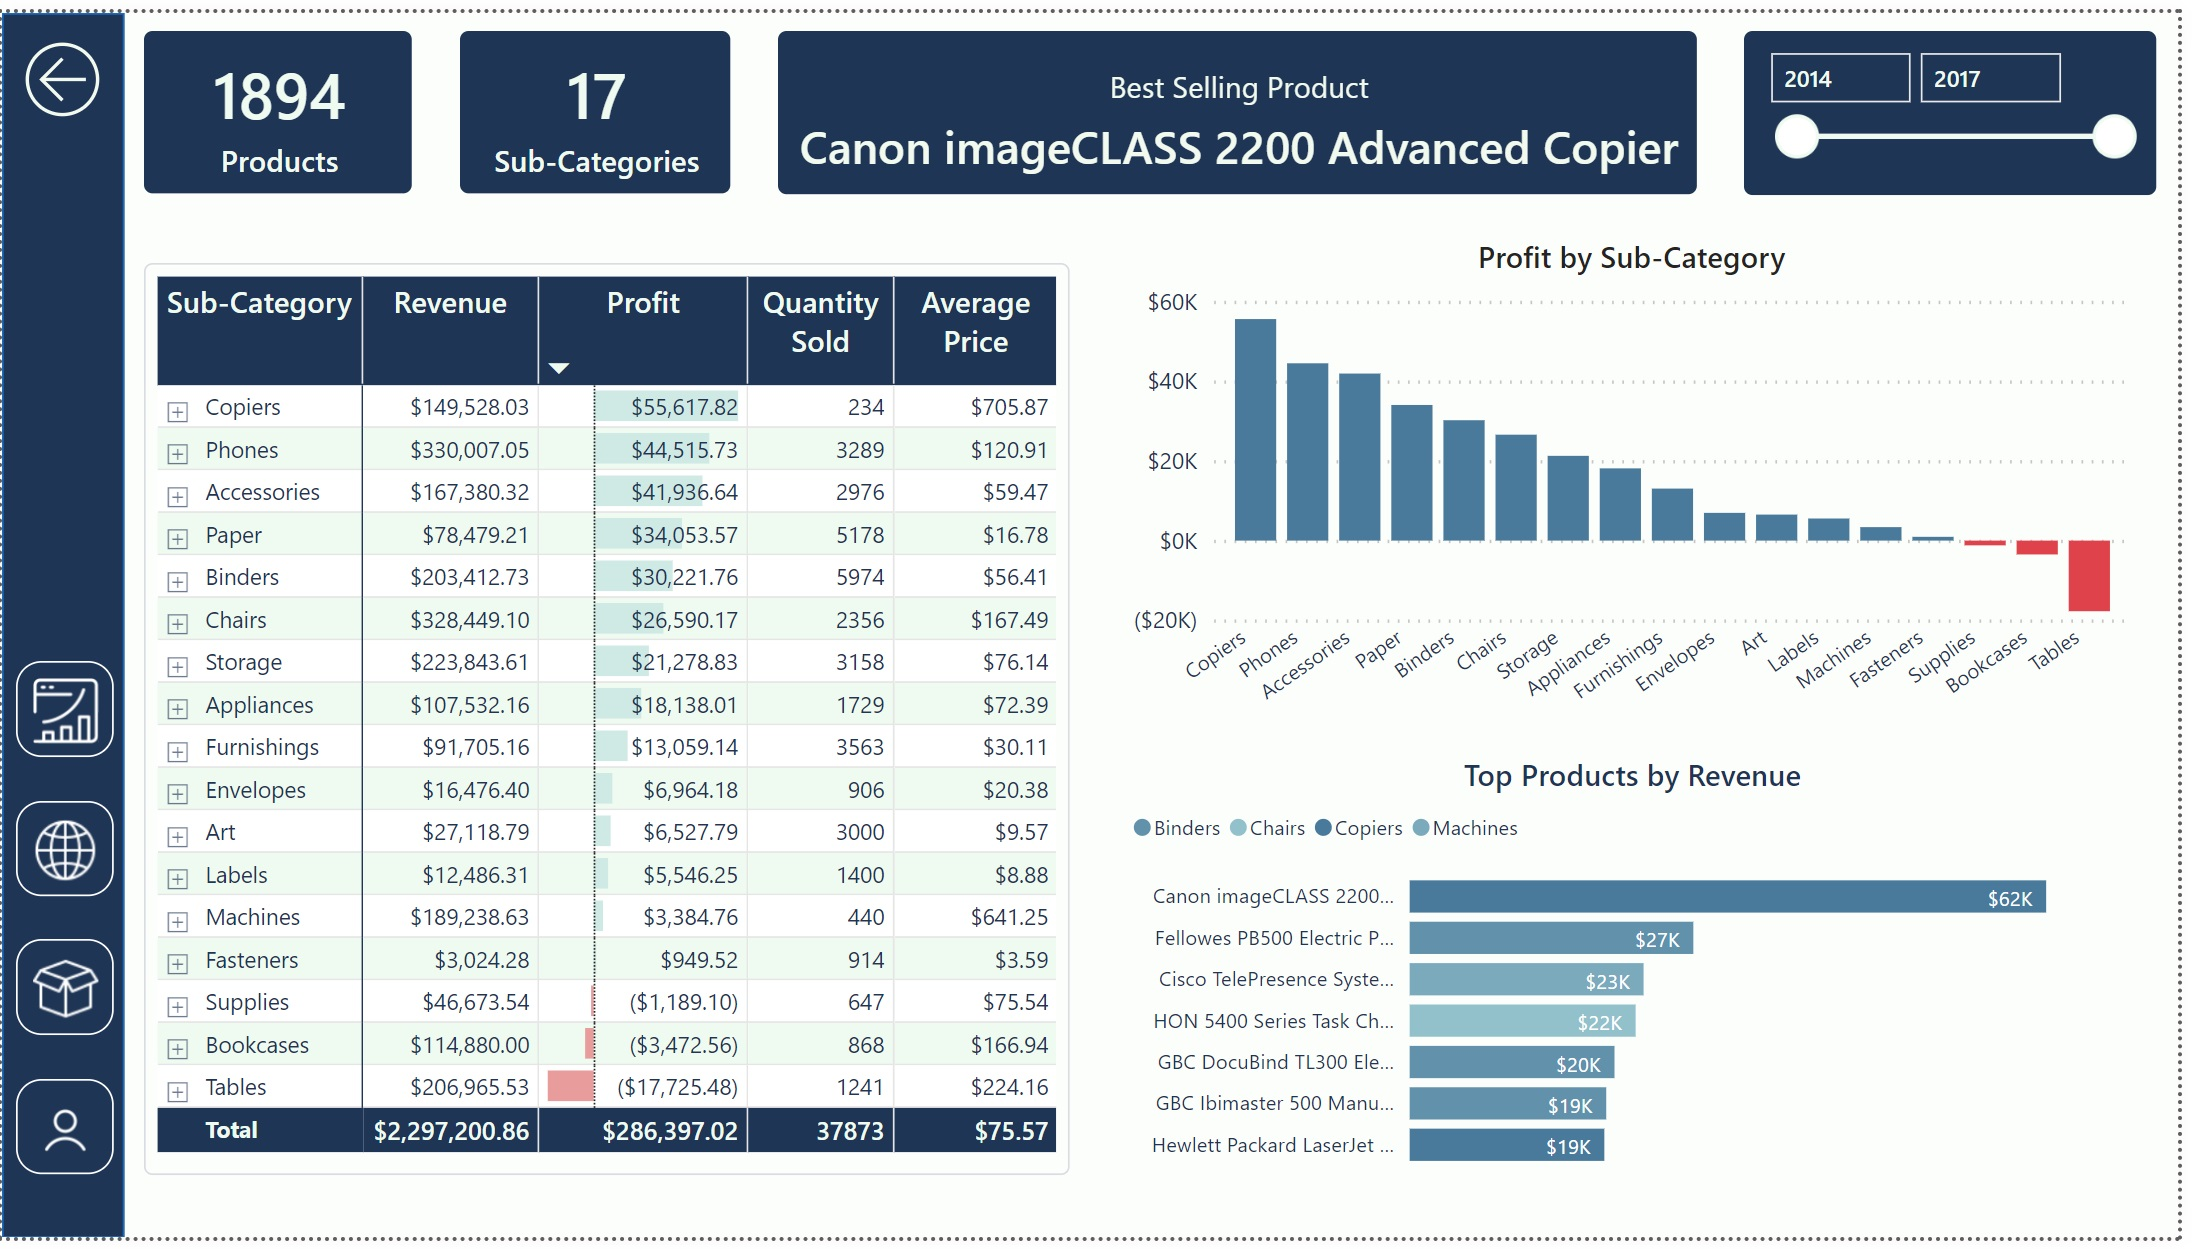

Layout of this report page (visuals, bound fields, positions):
{"tool":"powerbi","page":{"name":"Products","canvas":[1280,720],"ordinal":2},"visuals":[{"type":"card","title":"Products","fields":{"Values":["Measure Table.Products"]},"box":[83.5,10.6,157.6,95.3],"z":0},{"type":"actionButton","title":"Customers","box":[8,627.3,57.7,56],"z":0,"group":"g1"},{"type":"pivotTable","fields":{"Rows":["Products.Sub-Category","Products.Product Name"],"Values":["Measure Table.Revenue","Measure Table.Profit","Measure Table.Quantity Sold","Measure Table.Avg Price"]},"box":[83,146.6,544.3,536.4],"z":1000},{"type":"actionButton","title":"Products","box":[8,544.9,57.7,56.6],"z":1000,"group":"g1"},{"type":"columnChart","fields":{"Category":["Products.Sub-Category"],"Y":["Measure Table.Profit"]},"box":[660.5,132.1,597.3,295.3],"z":2000},{"type":"actionButton","title":"Globe","box":[8,463.2,57.7,56],"z":2000,"group":"g1"},{"type":"actionButton","title":"Dashboard","box":[8,380.8,57.7,56.6],"z":3000,"group":"g1"},{"type":"barChart","title":"Top  Products by Revenue","fields":{"Category":["Products.Product Name"],"Y":["Measure Table.Revenue"],"Series":["Products.Sub-Category"]},"box":[660.5,436.3,598.4,254.2],"z":3000},{"type":"shape","box":[0,0,72,720.3],"z":4000},{"type":"slicer","fields":{"Values":["Calendar.Year"]},"box":[1024.7,10.6,242.4,96.5],"z":5000},{"type":"card","title":"Sub-Categories","fields":{"Values":["Measure Table.Sub-Categories"]},"box":[269.2,10.6,158.8,95.3],"z":6000},{"type":"card","title":"Best Selling Product","fields":{"Values":["Min(Products.Product Name)"]},"box":[456.1,10,540.6,96.2],"z":7000},{"type":"actionButton","box":[6.8,10.2,58,56.8],"z":8000},{"type":"group","id":"g1","title":"Group 1","box":[8,380.8,57.7,302.5],"z":9000}]}

Visuals, with their boxes in screenshot pixels (x1, y1, x2, y2), scaled from the page's 1280x720 canvas onto the 2192x1249 screenshot:
"Products" card: 143 18 413 184
"Customers" actionButton: 14 1088 113 1185
pivotTable - Products.Sub-Category x Products.Product Name: 142 254 1074 1185
"Products" actionButton: 14 945 113 1043
columnChart - Products.Sub-Category x Measure Table.Profit: 1131 229 2154 741
"Globe" actionButton: 14 804 113 901
"Dashboard" actionButton: 14 661 113 759
"Top  Products by Revenue" barChart: 1131 757 2156 1198
shape: 0 0 123 1248
slicer - Calendar.Year: 1755 18 2170 186
"Sub-Categories" card: 461 18 733 184
"Best Selling Product" card: 781 17 1707 184
actionButton: 12 18 111 116
"Group 1" group: 14 661 113 1185
